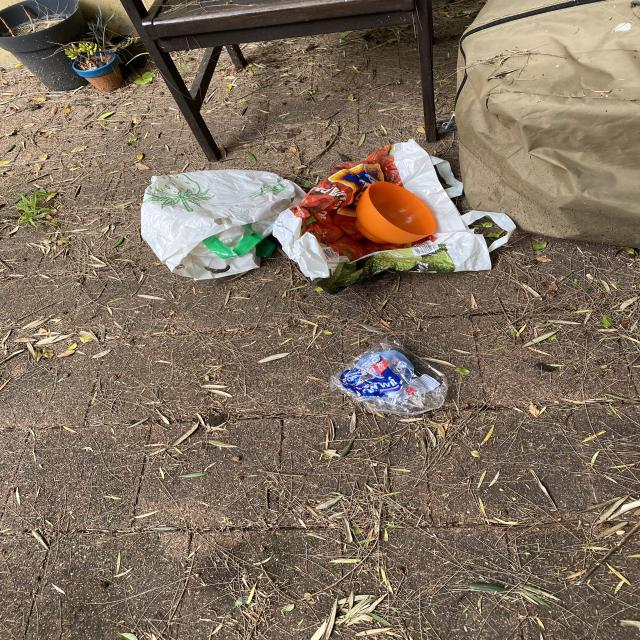bag: (273, 138, 516, 287), (142, 170, 307, 280)
bowl: (356, 181, 436, 244)
wrappers: (330, 338, 449, 417)
